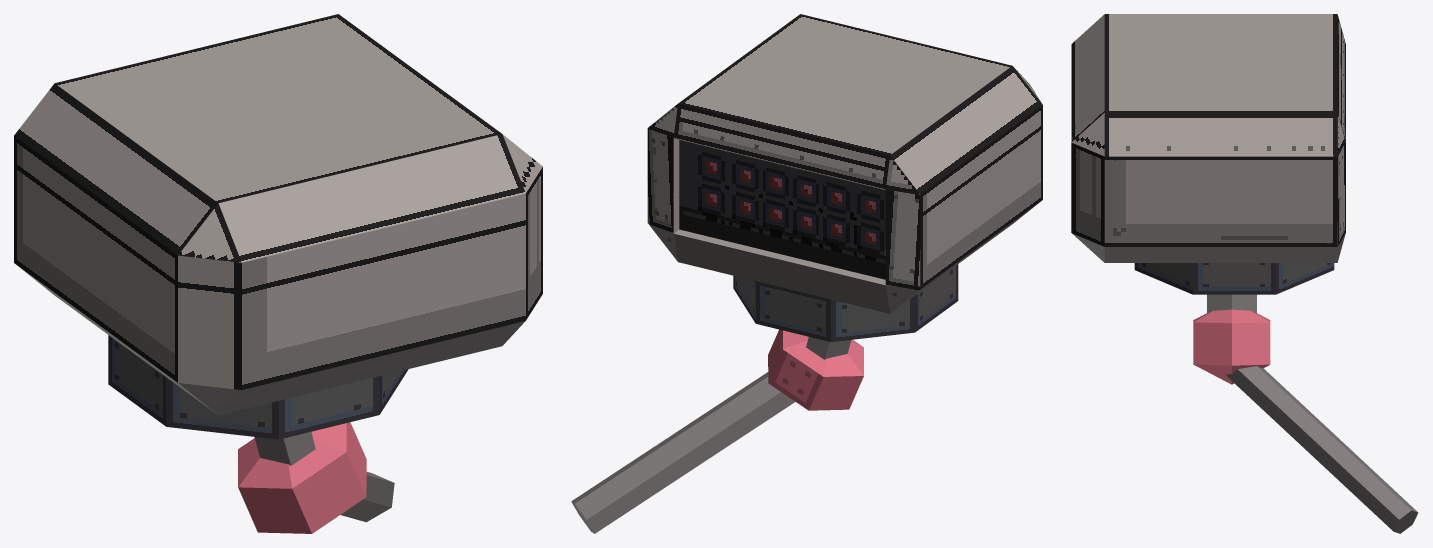
The model's file is RocketLauncherLeftSide.gltf.
3 renders of one model, left to right at view 1: azimuth 30°, elevation 25°; view 2: azimuth 150°, elevation 25°; view 3: azimuth 270°, elevation 25°, orthographic. The views are drawn at different scales.
Visible parts, largest first — view 1: RocketLauncher, Base, BallJoint, UpperAttachmentArm (×2); view 2: RocketLauncher, UpperAttachmentArm (×2), Base, BallJoint; view 3: RocketLauncher, UpperAttachmentArm (×2), Base, BallJoint.
Part boxes in pixels (box(x1,y1,x2,y2)): RocketLauncher: box(14, 14, 542, 415); Base: box(108, 335, 408, 439); BallJoint: box(238, 422, 366, 533); UpperAttachmentArm (×2): box(254, 432, 394, 522); RocketLauncher: box(647, 14, 1042, 313); UpperAttachmentArm (×2): box(571, 337, 851, 533); Base: box(733, 264, 958, 341); BallJoint: box(768, 329, 863, 410); RocketLauncher: box(1071, 14, 1345, 262); UpperAttachmentArm (×2): box(1207, 294, 1418, 533); Base: box(1134, 263, 1334, 294); BallJoint: box(1193, 309, 1270, 384).
Size of the model in its own units: 0.6535 by 0.8221 by 0.6521.
Materials: 1 (1 with a texture image).
